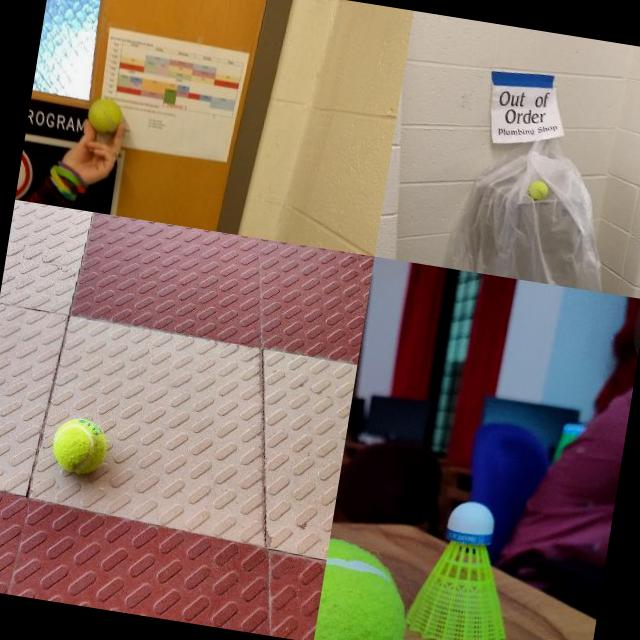Tennis Ball: (313, 538, 415, 640), (48, 415, 110, 477), (86, 98, 126, 136), (528, 179, 550, 202)
